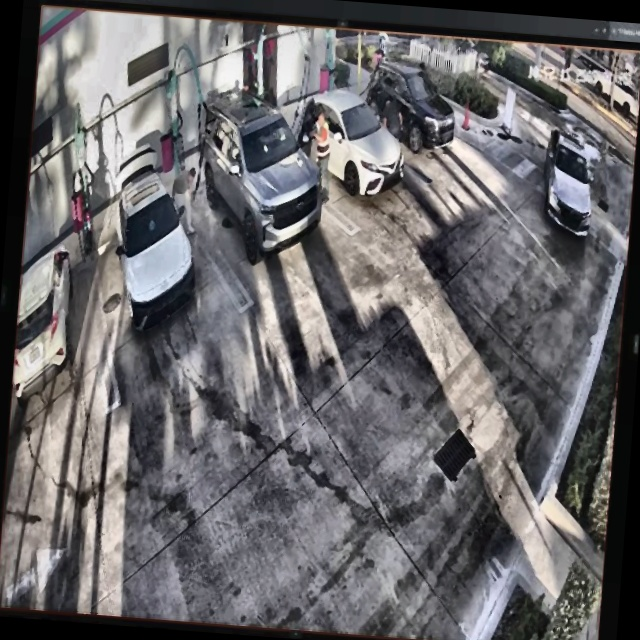Car: (195, 90, 328, 267), (105, 139, 205, 337), (288, 87, 409, 202), (363, 58, 461, 155)
